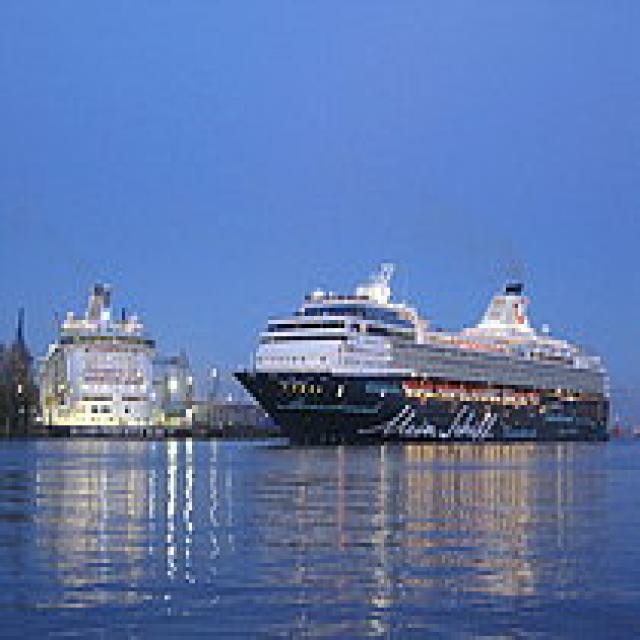Ship: (236, 256, 623, 471)
